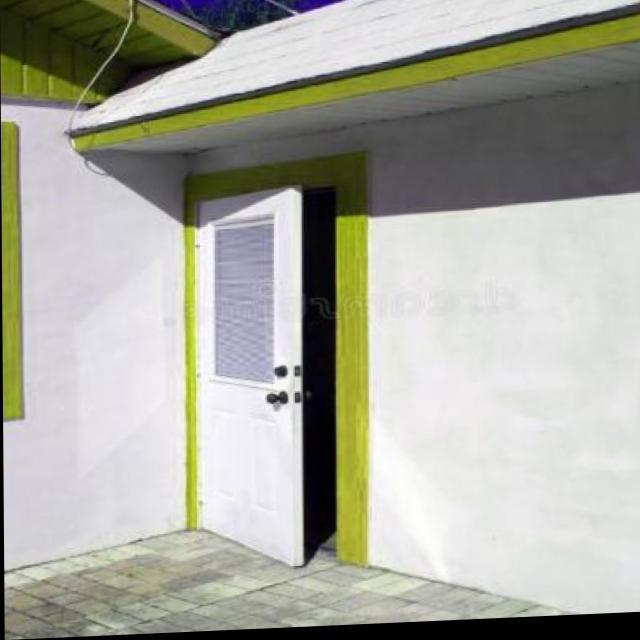door_handle: (258, 388, 291, 415)
